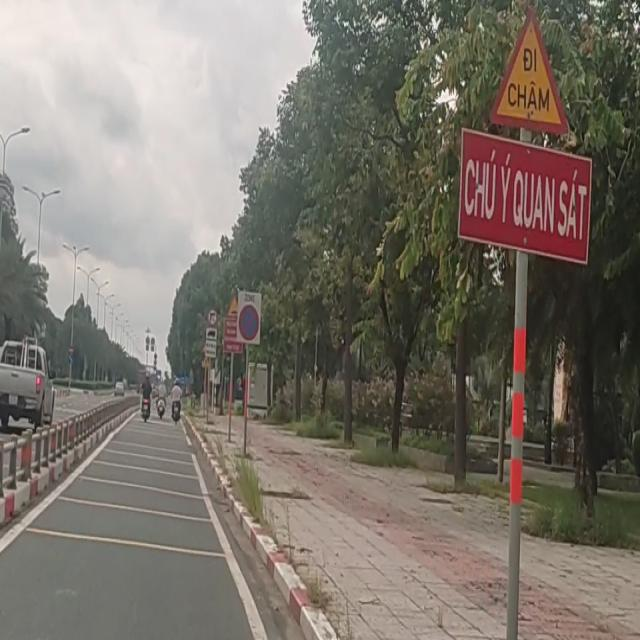Car: (0, 338, 55, 428), (113, 381, 125, 395)
Motorcyclist: (140, 379, 152, 421), (171, 382, 182, 421), (156, 396, 165, 419)
Sign: (458, 128, 592, 265), (490, 8, 570, 135), (238, 291, 260, 344), (222, 319, 238, 341), (228, 301, 238, 318), (205, 340, 215, 356), (206, 326, 216, 339), (207, 310, 216, 322)
